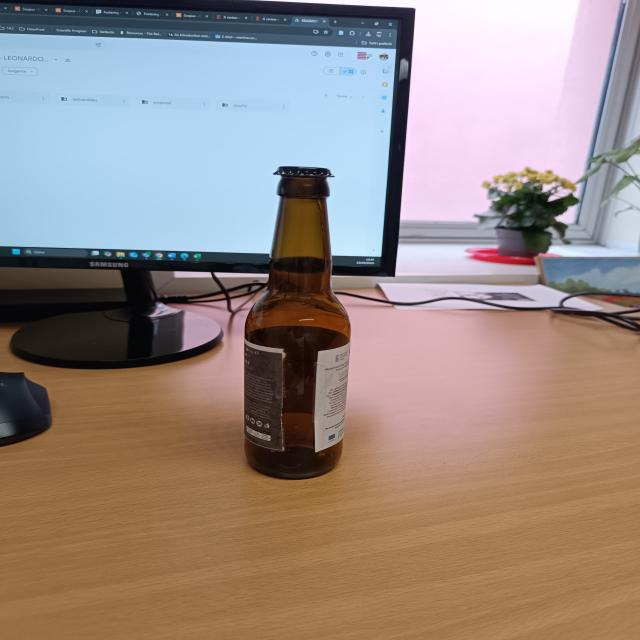Bottle: (240, 165, 354, 481)
Cap: (276, 163, 338, 180)
Label: (246, 339, 349, 454)
